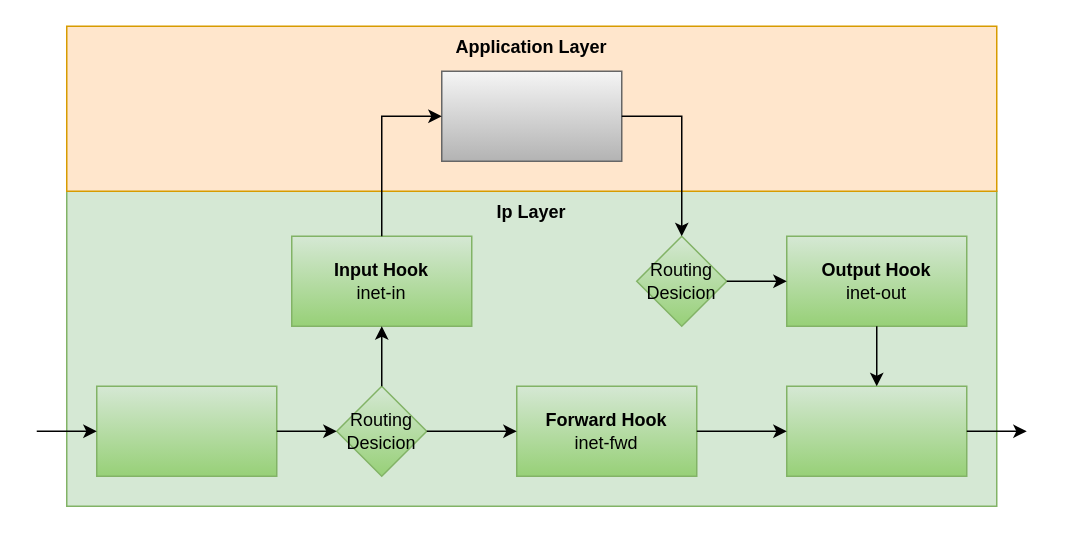
This 1065x533 diagram has some shape labels left out. The centre of each missing label's shape, as x and y in pixels:
Local Process: point (531, 115)
Postrouting Hook inet-post: point (876, 430)
Prerouting Hook inet-pre: point (186, 430)
